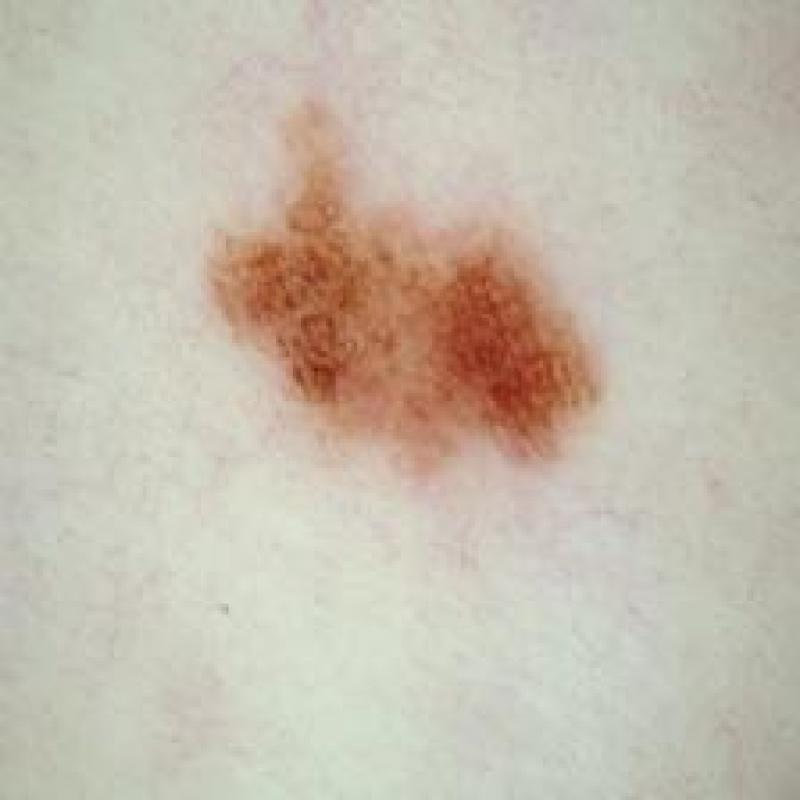malignant: (192, 93, 639, 491)
